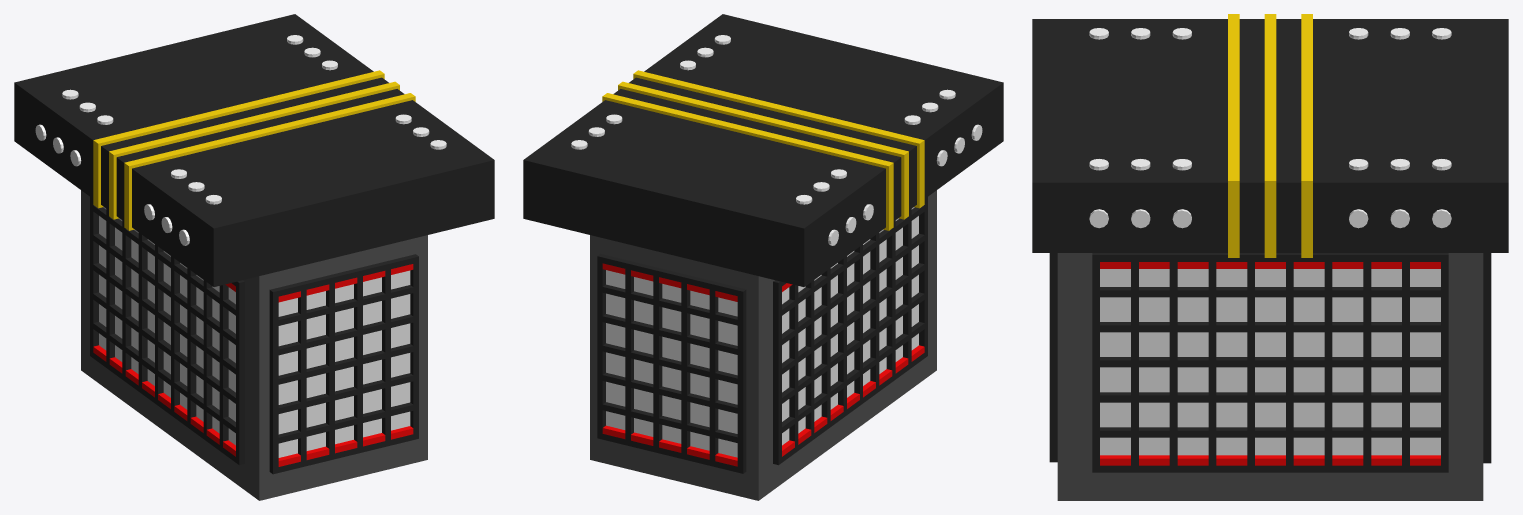
The model's file is Edificio 21.fbx.
3 views of the same model, side by side, from view 1: azimuth 30°, elevation 25°; view 2: azimuth 150°, elevation 25°; view 3: azimuth 270°, elevation 25° (orthographic). The views are drawn at different scales.
Visible parts, largest first — view 1: Pared 1 [10522], Pared 2 [10531], [10550], Pared 2 [10525], Pared 1 [10528]; view 2: Pared 1 [10528], Pared 2 [10531], [10550], Pared 2 [10525], Pared 1 [10522]; view 3: Pared 2 [10525], [10550], Pared 2 [10531], Pared 1 [10528], Pared 1 [10522].
Part boxes in pixels (x1,y1,x2,y2): Pared 1 [10522]: [203, 152, 494, 500]; Pared 2 [10531]: [25, 76, 259, 500]; [10550]: [81, 35, 427, 206]; Pared 2 [10525]: [250, 21, 483, 165]; Pared 1 [10528]: [14, 14, 305, 148]; Pared 1 [10528]: [523, 152, 814, 500]; Pared 2 [10531]: [758, 76, 992, 500]; [10550]: [590, 35, 936, 206]; Pared 2 [10525]: [534, 21, 767, 165]; Pared 1 [10522]: [712, 14, 1003, 148]; Pared 2 [10525]: [1057, 146, 1483, 500]; [10550]: [1057, 48, 1483, 149]; Pared 2 [10531]: [1057, 14, 1483, 51]; Pared 1 [10528]: [1483, 19, 1508, 463]; Pared 1 [10522]: [1032, 19, 1057, 462].
Bounding box in the file's own units: 402 × 484 × 398.
